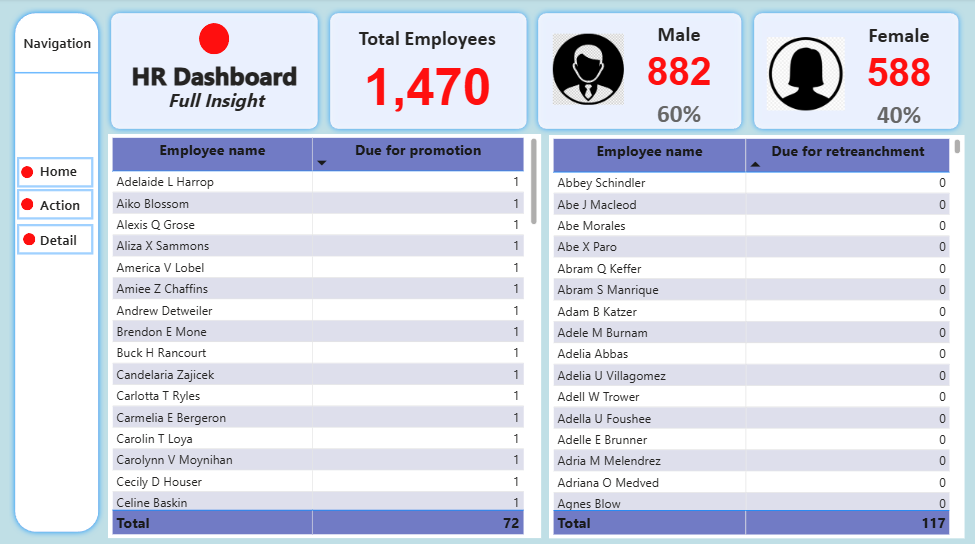

The page's visual inventory and layout, read from the dashboard file:
{"tool":"powerbi","page":{"name":"Detail","canvas":[1280,720],"ordinal":2},"visuals":[{"type":"shape","box":[16.2,11.8,124.9,695],"z":0},{"type":"shape","box":[141.1,11.8,286.5,167.5],"z":1000},{"type":"shape","box":[427.6,11.8,273.3,167.5],"z":2000},{"type":"shape","box":[700.9,11.8,282.1,167.5],"z":3000},{"type":"shape","box":[983,11.8,283.6,167.5],"z":4000},{"type":"textbox","box":[141.1,73.5,286.5,61.7],"z":6000},{"type":"textbox","box":[130.8,111.7,311.5,47],"z":7000},{"type":"shape","box":[264.5,32.3,39.7,41.1],"z":8000},{"type":"card","title":"Total Employees","fields":{"Values":["All Measures.Total Emp"]},"box":[413.5,36.5,299.5,117.1],"z":9000},{"type":"card","title":"Male","fields":{"Values":["All Measures.Male"]},"box":[825.5,31.9,133.8,89.7],"z":10000},{"type":"card","title":"Male","fields":{"Values":["All Measures.% male"]},"box":[825.8,122,133.7,55.8],"z":11000},{"type":"image","box":[722.9,32.3,102.9,122],"z":12000},{"type":"card","title":"Female","fields":{"Values":["All Measures.Female"]},"box":[1113.8,32.3,133.7,89.6],"z":13000},{"type":"card","title":"Male","fields":{"Values":["All Measures.% female"]},"box":[1113.8,122,133.7,57.3],"z":14000},{"type":"image","box":[1002.1,42.6,111.7,111.7],"z":15000},{"type":"shape","box":[22.4,91.8,112.4,12.4],"z":16000},{"type":"textbox","box":[12.9,42.4,131.8,37.1],"z":17000},{"type":"shape","box":[32,219.3,16,16],"z":18000},{"type":"textbox","box":[50.5,209,65,37],"z":19000},{"type":"textbox","box":[50.5,243.2,73.7,36.8],"z":20000},{"type":"shape","box":[32.1,289.5,15.8,15.8],"z":21000},{"type":"textbox","box":[50.5,278.9,66.3,36.8],"z":22000},{"type":"shape","box":[32.1,253.2,15.8,16.3],"z":23000},{"type":"tableEx","fields":{"Values":["HR employee data.Emplyee name","All Measures.Due for promotion"]},"box":[145.5,177.8,567.2,529],"z":24000},{"type":"tableEx","fields":{"Values":["HR employee data.Employee name","All Measures.Due for retreanchment"]},"box":[722.9,179.3,543.7,527.5],"z":24001}]}

Visuals, with their boxes on the page's 1280x720 design canvas (x1, y1, x2, y2). These are canvas units, not pixel positions in the 975x544 screenshot, which may show the page scaled, cropped or inside an application window:
shape: l=16, t=12, r=141, b=707
shape: l=141, t=12, r=428, b=179
shape: l=428, t=12, r=701, b=179
shape: l=701, t=12, r=983, b=179
shape: l=983, t=12, r=1267, b=179
textbox: l=141, t=74, r=428, b=135
textbox: l=131, t=112, r=442, b=159
shape: l=264, t=32, r=304, b=73
"Total Employees" card: l=414, t=36, r=713, b=154
"Male" card: l=826, t=32, r=959, b=122
"Male" card: l=826, t=122, r=960, b=178
image: l=723, t=32, r=826, b=154
"Female" card: l=1114, t=32, r=1248, b=122
"Male" card: l=1114, t=122, r=1248, b=179
image: l=1002, t=43, r=1114, b=154
shape: l=22, t=92, r=135, b=104
textbox: l=13, t=42, r=145, b=80
shape: l=32, t=219, r=48, b=235
textbox: l=50, t=209, r=116, b=246
textbox: l=50, t=243, r=124, b=280
shape: l=32, t=290, r=48, b=305
textbox: l=50, t=279, r=117, b=316
shape: l=32, t=253, r=48, b=270
tableEx - HR employee data.Emplyee name x All Measures.Due for promotion: l=146, t=178, r=713, b=707
tableEx - HR employee data.Employee name x All Measures.Due for retreanchment: l=723, t=179, r=1267, b=707
